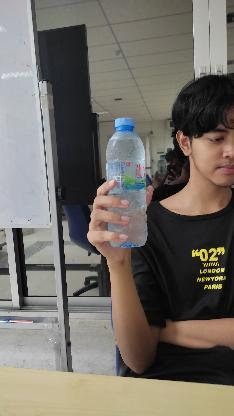Plastic Bottle: (102, 115, 151, 248)
